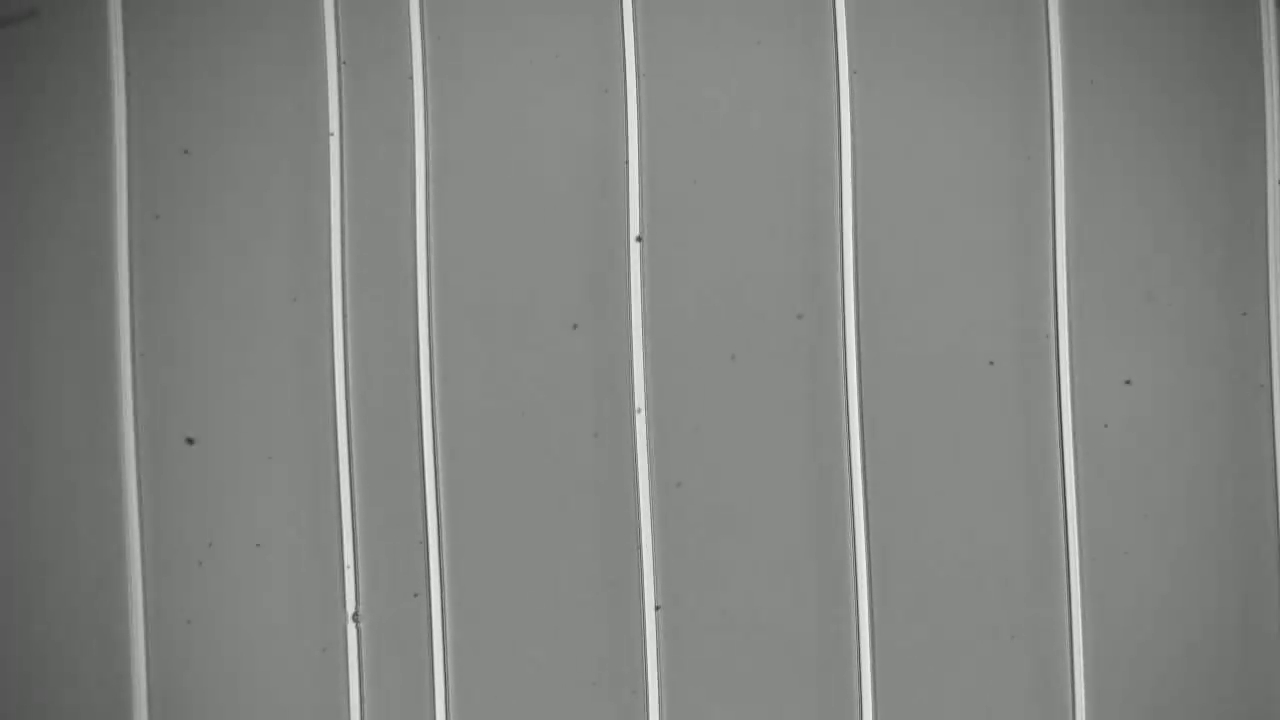stains_enbedded: (338, 605, 377, 635)
